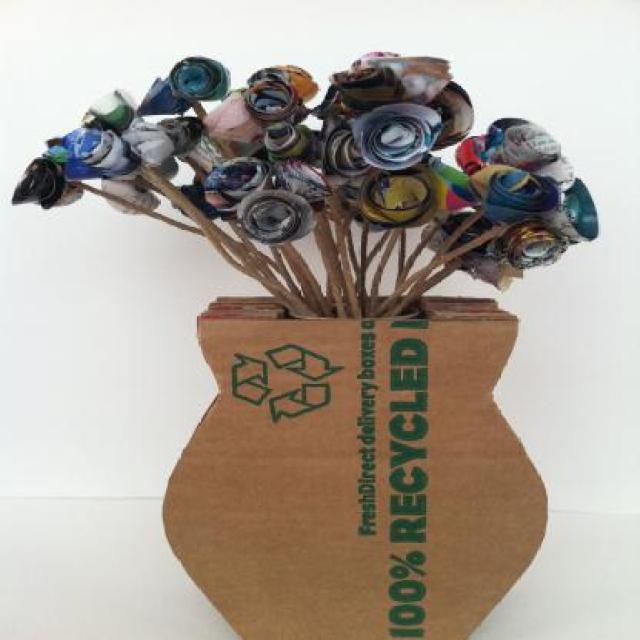box: (165, 248, 552, 640)
